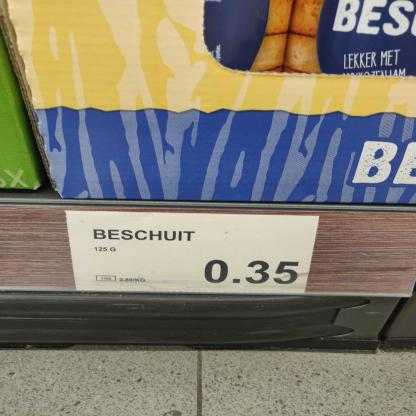prtg: (65, 212, 322, 296)
